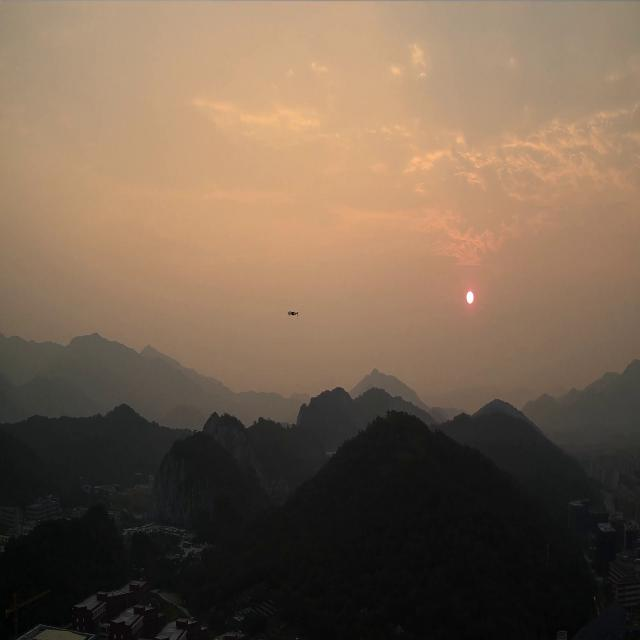drone: (287, 309, 299, 317)
